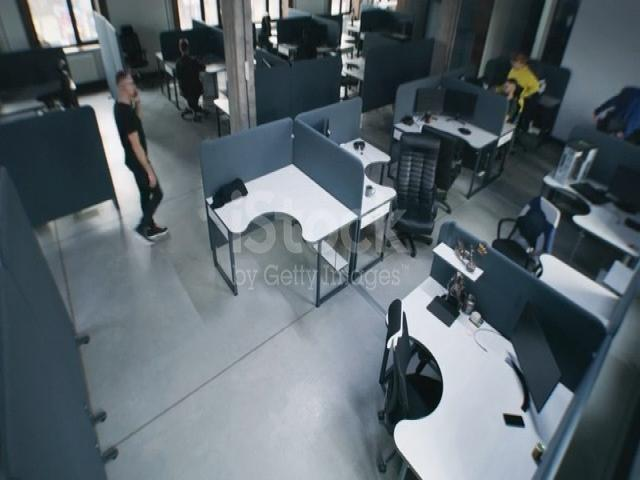EMPTY_CHAIR: (382, 294, 444, 472), (501, 185, 561, 279), (392, 136, 433, 253), (423, 103, 460, 223), (111, 12, 158, 73), (52, 48, 87, 112), (340, 78, 375, 114)
PERSON_IN_CHAIR: (478, 60, 526, 165), (166, 29, 209, 142), (592, 89, 640, 140)
